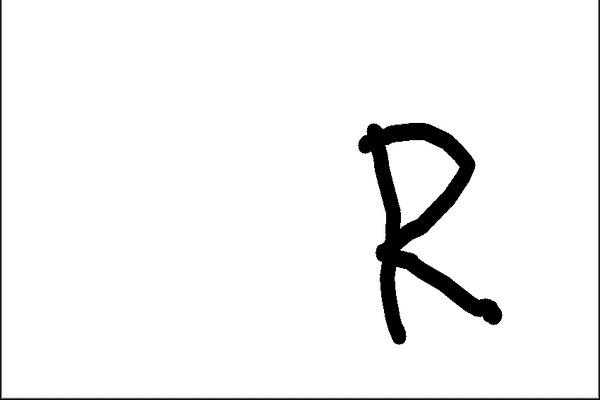R: (355, 119, 503, 347)
